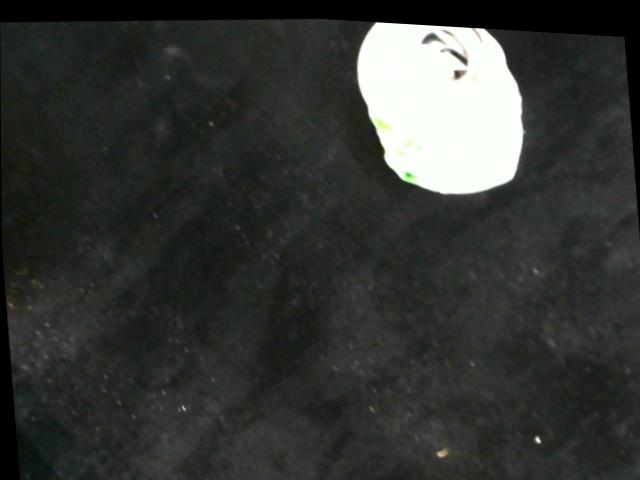can: (355, 18, 540, 193)
